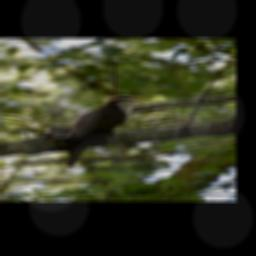Cuckoo: (60, 95, 152, 169)
